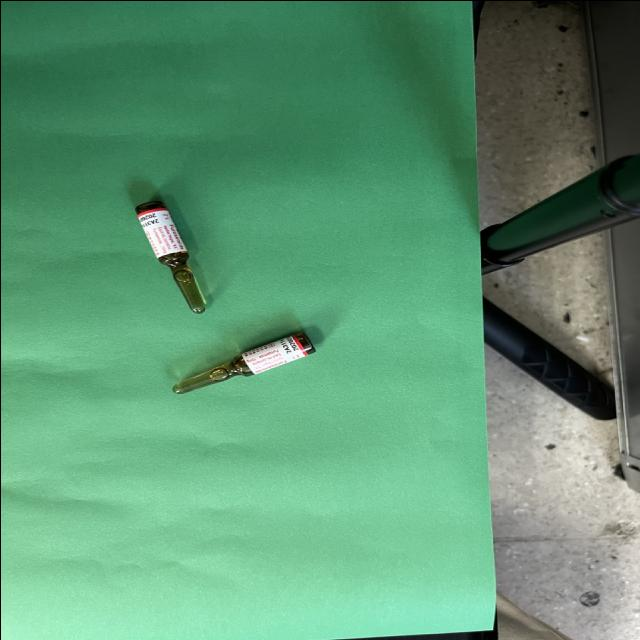Ampoules: (171, 330, 315, 392), (134, 199, 205, 312)
